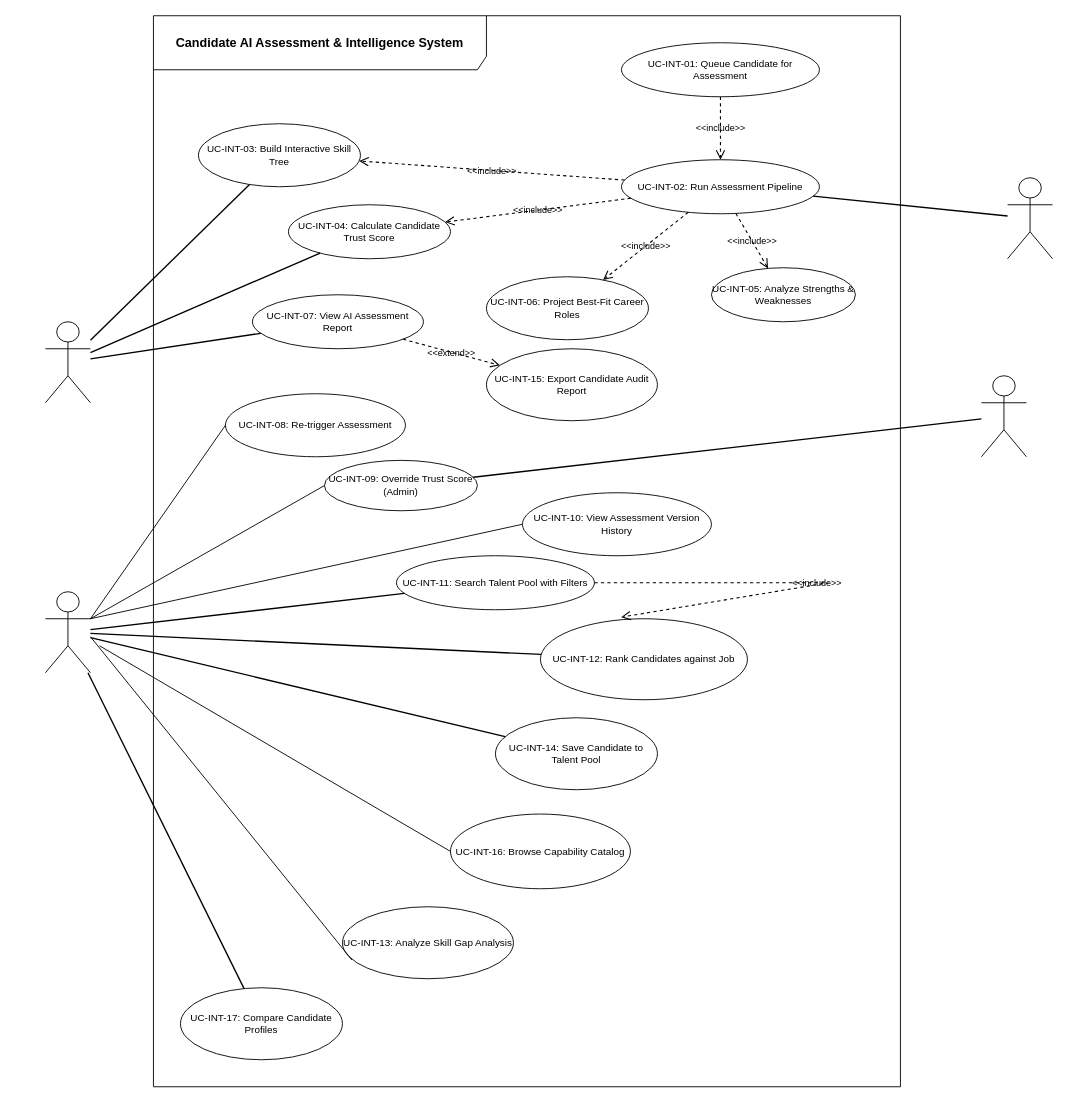
This 1087x1103 diagram has some shape labels left out. Here are the shapes that lost their labels. From the top down, the centre of each, then its label:
[1030,218]: CVerify.AI Engine
[67,362]: Candidate
[1003,416]: Super Admin
[67,632]: Employer / Org Admin
